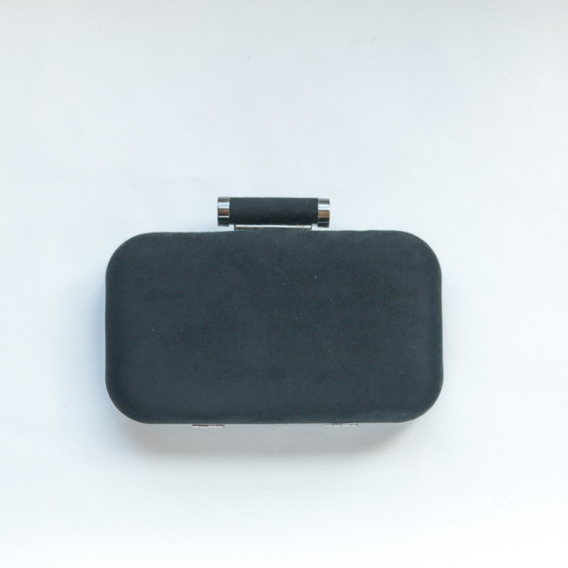cartera: (99, 192, 446, 428)
